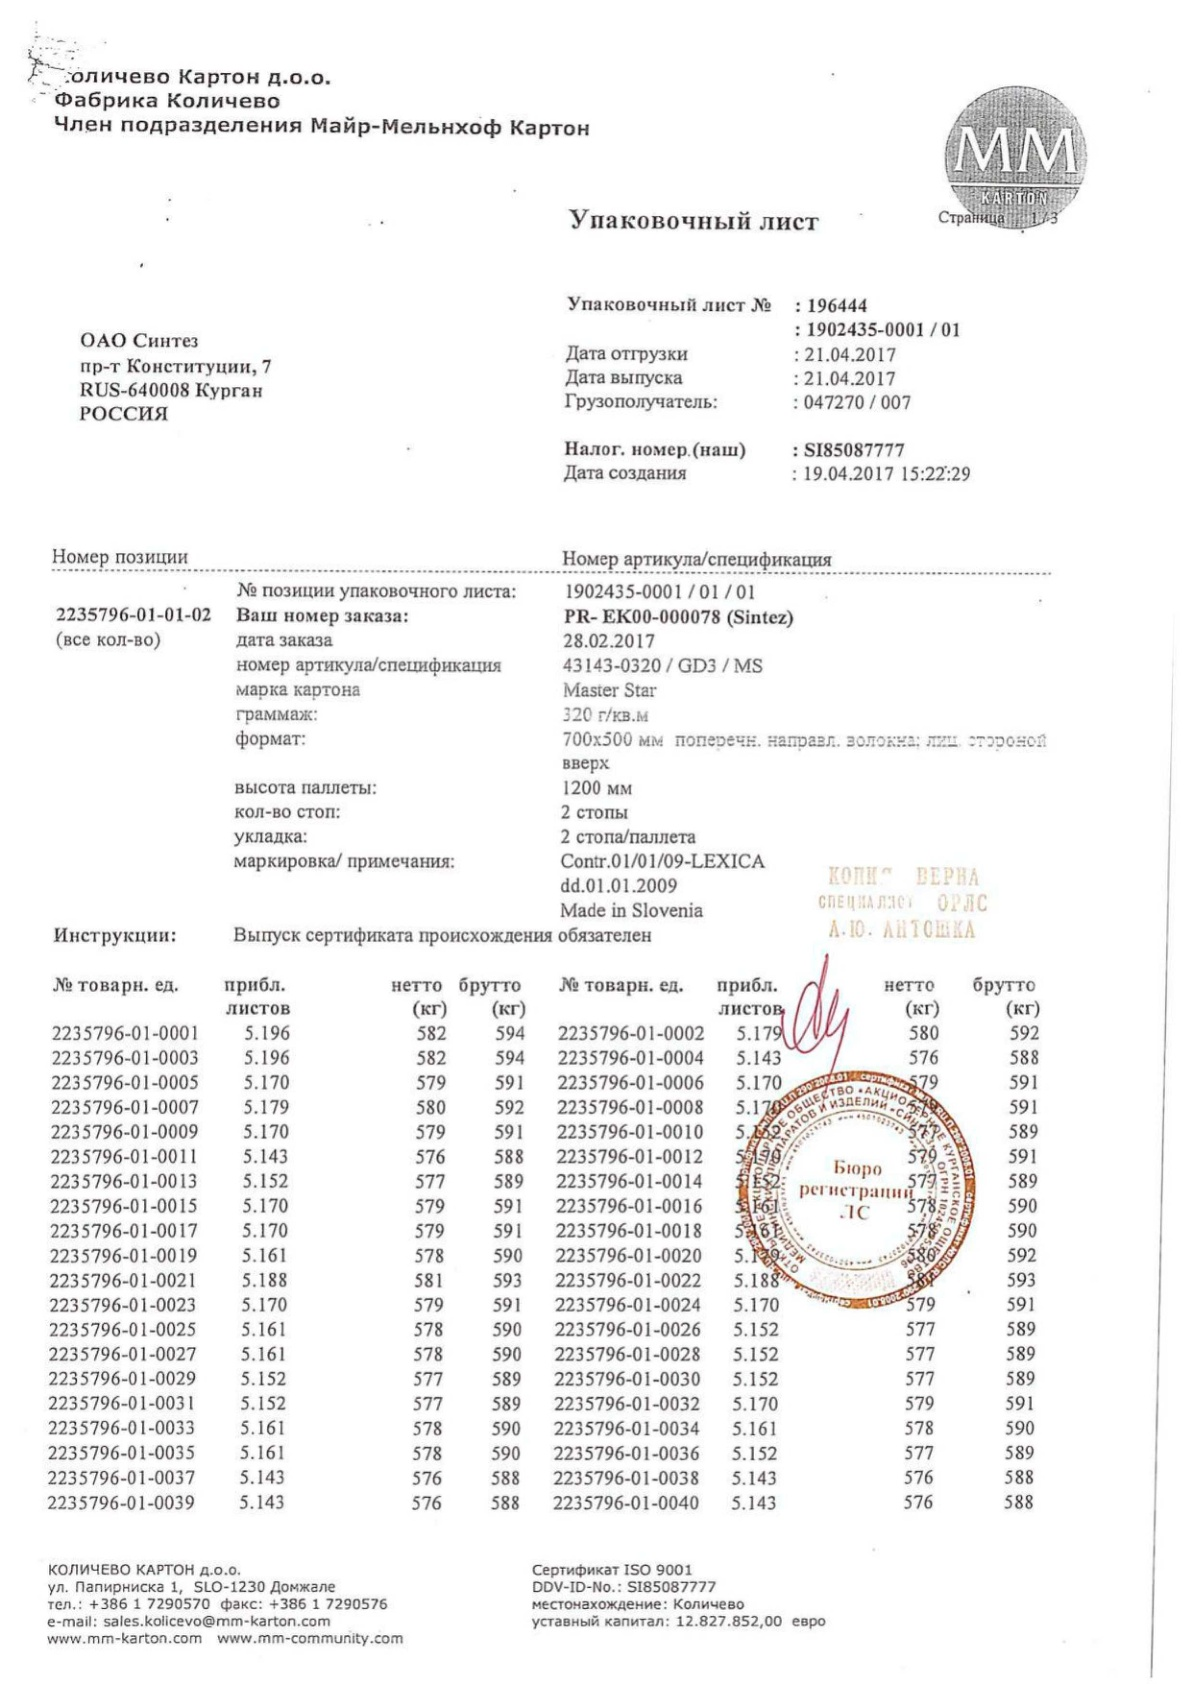nolines: (45, 969, 1066, 1533), (77, 289, 979, 488)
partial_lined: (50, 540, 1066, 950)
